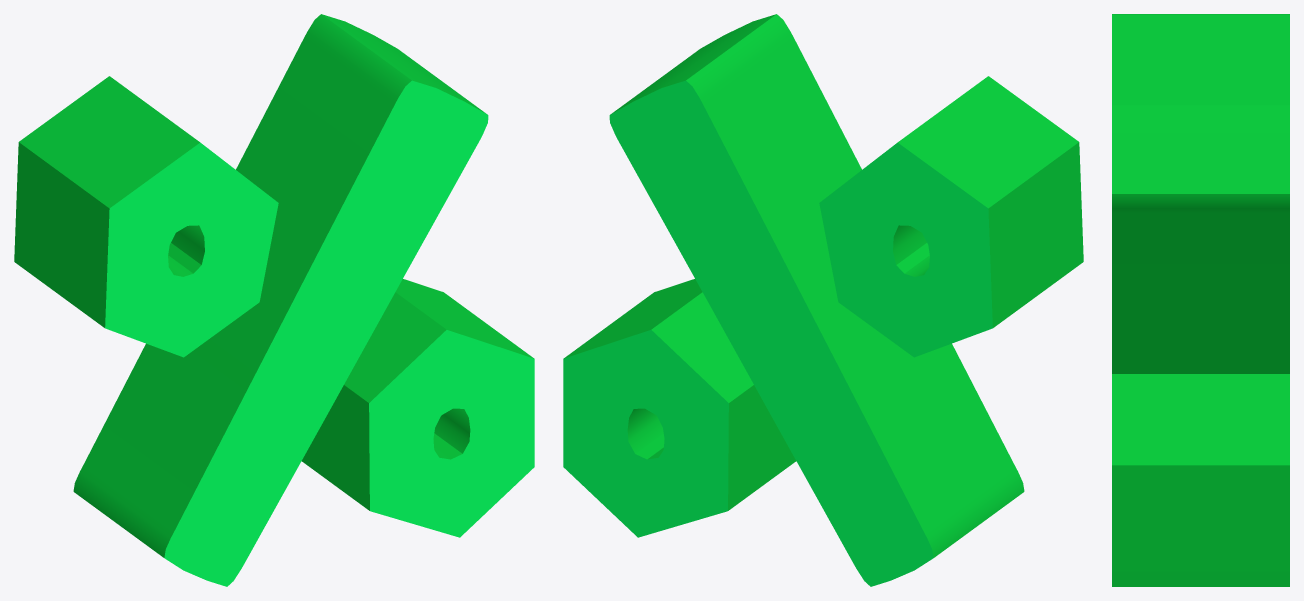
File: 6526505c-859d-4504-9833-5b3afbdfe937.glb
3 renders of one model, left to right at view 1: azimuth 30°, elevation 25°; view 2: azimuth 150°, elevation 25°; view 3: azimuth 270°, elevation 25°, orthographic. The views are drawn at different scales.
Parts seen in each view (by area): view 1: %_Zyzol_Green; view 2: %_Zyzol_Green; view 3: %_Zyzol_Green.
Boxes of the visible parts, x1=… form: %_Zyzol_Green: x1=14, y1=14, x2=534, y2=586; %_Zyzol_Green: x1=563, y1=14, x2=1083, y2=586; %_Zyzol_Green: x1=1112, y1=14, x2=1289, y2=586.
Size of what is drawn, in the model's own units: 0.1228 by 0.1281 by 0.045.
Materials: 2 (2 with a texture image).
